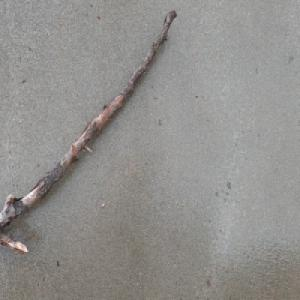Wood: (0, 8, 178, 255)
